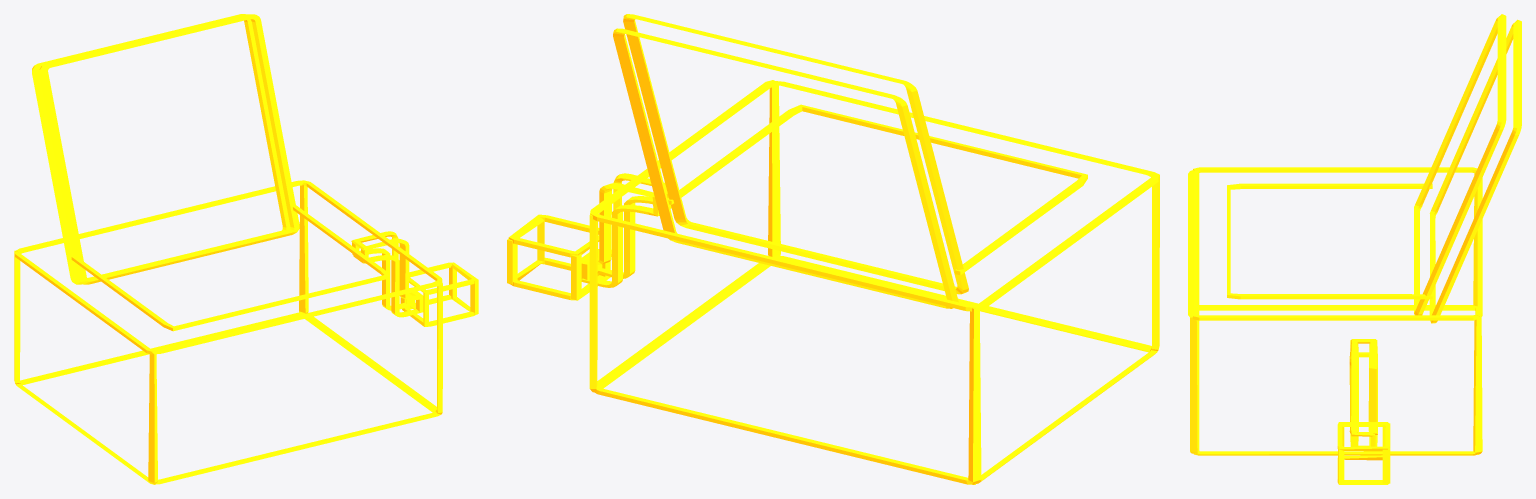
The model's file is musicBoxOutline.fbx.
3 renders of one model, left to right at view 1: azimuth 30°, elevation 25°; view 2: azimuth 150°, elevation 25°; view 3: azimuth 270°, elevation 25°, orthographic. The views are drawn at different scales.
Visible parts, largest first — view 1: MusicBox; view 2: MusicBox; view 3: MusicBox.
Part boxes in pixels (x1,y1,x2,y2): MusicBox: (14, 14, 478, 484); MusicBox: (507, 14, 1159, 484); MusicBox: (1188, 14, 1521, 484).
Bounding box in the file's own units: 196 × 142 × 136.
